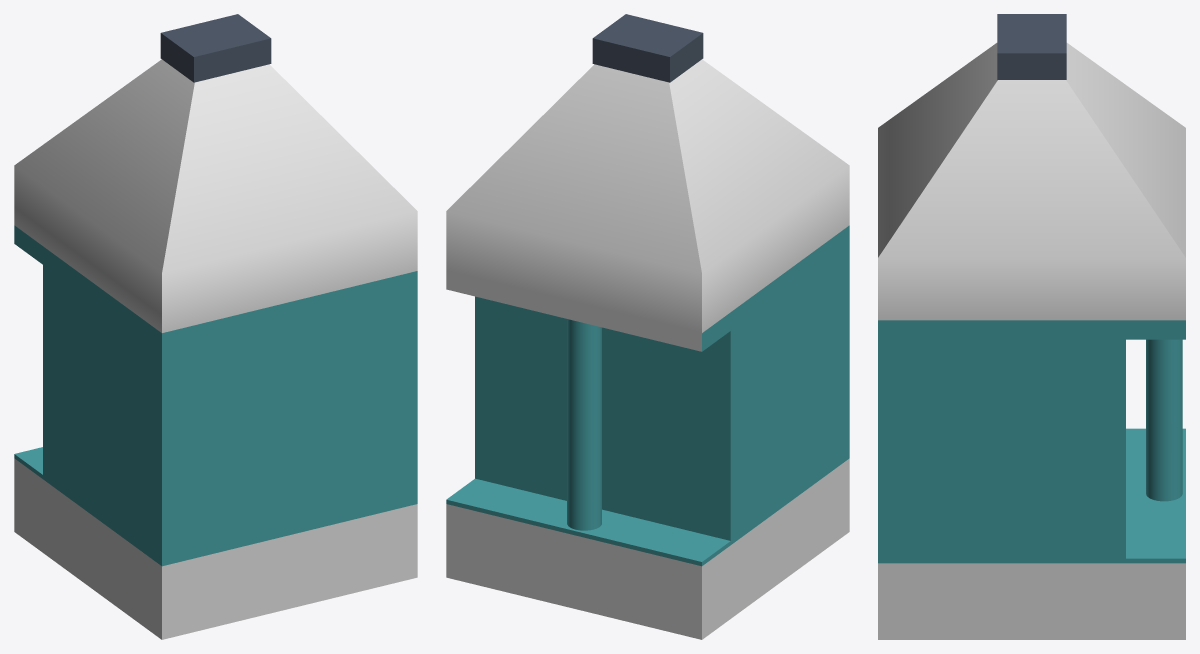
The model's file is milk1.fbx.
3 renders of one model, left to right at view 1: azimuth 30°, elevation 25°; view 2: azimuth 150°, elevation 25°; view 3: azimuth 270°, elevation 25°, orthographic. The views are drawn at different scales.
Parts seen in each view (by area): view 1: pCube3; view 2: pCube3, pCylinder2; view 3: pCube3, pCylinder2.
Part boxes in pixels (x1,y1,x2,y2): pCube3: [14, 14, 417, 639]; pCube3: [446, 14, 849, 639]; pCylinder2: [567, 319, 601, 530]; pCube3: [878, 14, 1185, 639]; pCylinder2: [1146, 339, 1182, 501].
Bounding box in the file's own units: 1.7 × 3.29 × 1.7.
